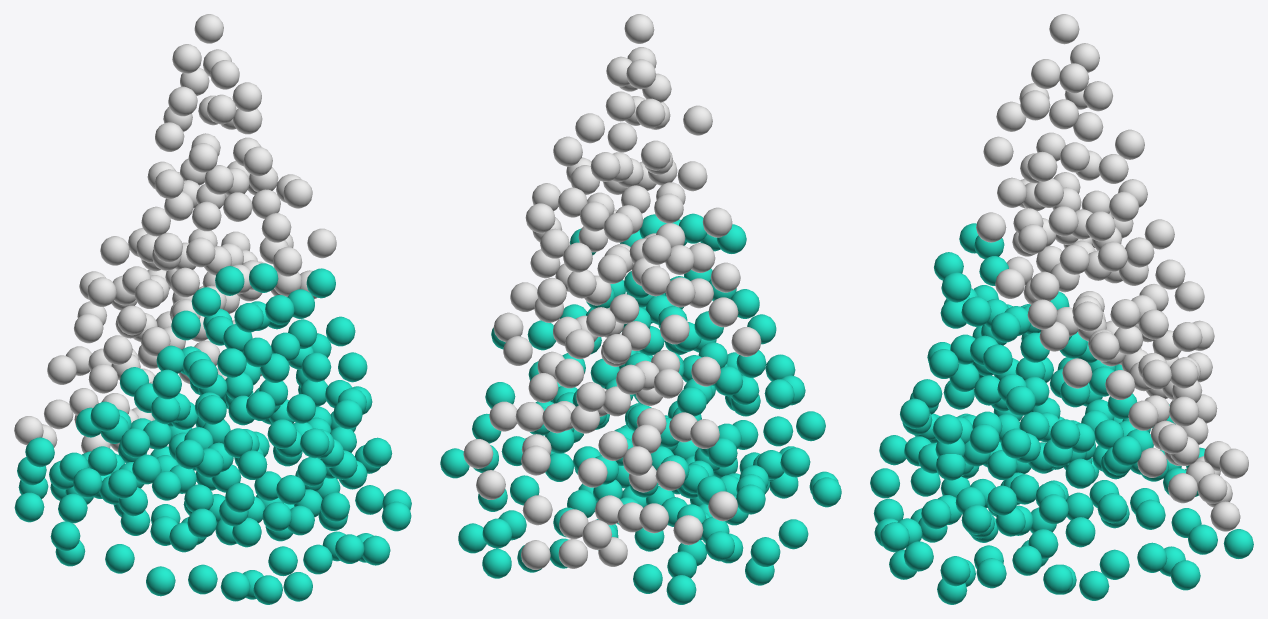
Rendered from tree.dae.
3 views of the same model, side by side, from view 1: azimuth 30°, elevation 25°; view 2: azimuth 150°, elevation 25°; view 3: azimuth 270°, elevation 25° (orthographic).
Parts seen in each view (by area): view 1: Sphere.1_0 (×6), Sphere_8 (×3), Sphere_3 (×3), Sphere_19 (×3), Sphere.1_1 (×3), Sphere_18 (×3), Sphere_6 (×3), Sphere.1_4 (×3), Sphere_2 (×3), Sphere_7 (×3), Sphere.1_2 (×3), Sphere_23 (×2) (+56 smaller); view 2: Sphere.1_0 (×6), Sphere.1_2 (×4), Sphere.1_3 (×4), Sphere.1_8 (×3), Sphere.1_18 (×3), Sphere.1_11 (×3), Sphere.1_4 (×3), Sphere.1_5 (×3), Sphere_3 (×3), Sphere.1_27 (×3), Sphere.1_1 (×3), Sphere.1_19 (×3) (+53 smaller); view 3: Sphere.1_2 (×5), Sphere.1_3 (×4), Sphere.1_5 (×4), Sphere.1_1 (×4), Sphere.1_0 (×4), Sphere.1_19 (×3), Sphere.1_8 (×3), Sphere.1_6 (×3), Sphere_8 (×2), Sphere_49 (×2), Sphere.1_37 (×2), Sphere.1_11 (×2) (+56 smaller).
Part boxes in pixels (x1=…): Sphere.1_0 (×6): x1=88, y1=14, x2=291, y2=393; Sphere_8 (×3): x1=175, y1=295, x2=294, y2=601; Sphere_3 (×3): x1=90, y1=287, x2=220, y2=573; Sphere_19 (×3): x1=121, y1=303, x2=263, y2=596; Sphere.1_1 (×3): x1=188, y1=82, x2=261, y2=221; Sphere_18 (×3): x1=300, y1=268, x2=390, y2=565; Sphere_6 (×3): x1=197, y1=263, x2=278, y2=547; Sphere.1_4 (×3): x1=141, y1=169, x2=184, y2=356; Sphere_2 (×3): x1=151, y1=266, x2=244, y2=552; Sphere_7 (×3): x1=223, y1=289, x2=314, y2=576; Sphere.1_2 (×3): x1=180, y1=60, x2=262, y2=134; Sphere_23 (×2): x1=333, y1=399, x2=411, y2=531; Sphere.1_0 (×6): x1=607, y1=14, x2=740, y2=442; Sphere.1_2 (×4): x1=521, y1=91, x2=635, y2=475; Sphere.1_3 (×4): x1=463, y1=73, x2=671, y2=468; Sphere.1_8 (×3): x1=503, y1=203, x2=555, y2=525; Sphere.1_18 (×3): x1=563, y1=242, x2=703, y2=545; Sphere.1_11 (×3): x1=489, y1=207, x2=732, y2=431; Sphere.1_4 (×3): x1=566, y1=161, x2=707, y2=298; Sphere.1_5 (×3): x1=565, y1=140, x2=670, y2=359; Sphere_3 (×3): x1=716, y1=224, x2=841, y2=507; Sphere.1_27 (×3): x1=570, y1=277, x2=695, y2=566; Sphere.1_1 (×3): x1=606, y1=56, x2=712, y2=274; Sphere.1_19 (×3): x1=476, y1=183, x2=560, y2=499; Sphere.1_2 (×5): x1=1031, y1=59, x2=1119, y2=361; Sphere.1_3 (×4): x1=1017, y1=129, x2=1197, y2=503; Sphere.1_5 (×4): x1=995, y1=112, x2=1168, y2=339; Sphere.1_1 (×4): x1=996, y1=63, x2=1089, y2=207; Sphere.1_0 (×4): x1=976, y1=14, x2=1099, y2=242; Sphere.1_19 (×3): x1=1059, y1=244, x2=1227, y2=503; Sphere.1_8 (×3): x1=1097, y1=241, x2=1248, y2=478; Sphere.1_6 (×3): x1=983, y1=136, x2=1143, y2=354; Sphere_8 (×2): x1=870, y1=272, x2=971, y2=498; Sphere_49 (×2): x1=932, y1=414, x2=970, y2=586; Sphere.1_37 (×2): x1=1169, y1=396, x2=1240, y2=531; Sphere.1_11 (×2): x1=1155, y1=259, x2=1187, y2=454.
Size of the model in its own units: 182 by 275 by 178.
